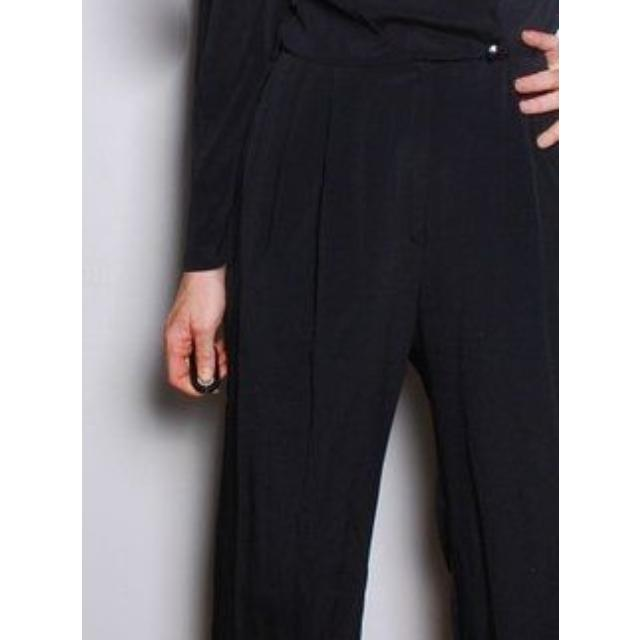polyester: (162, 0, 558, 640)
